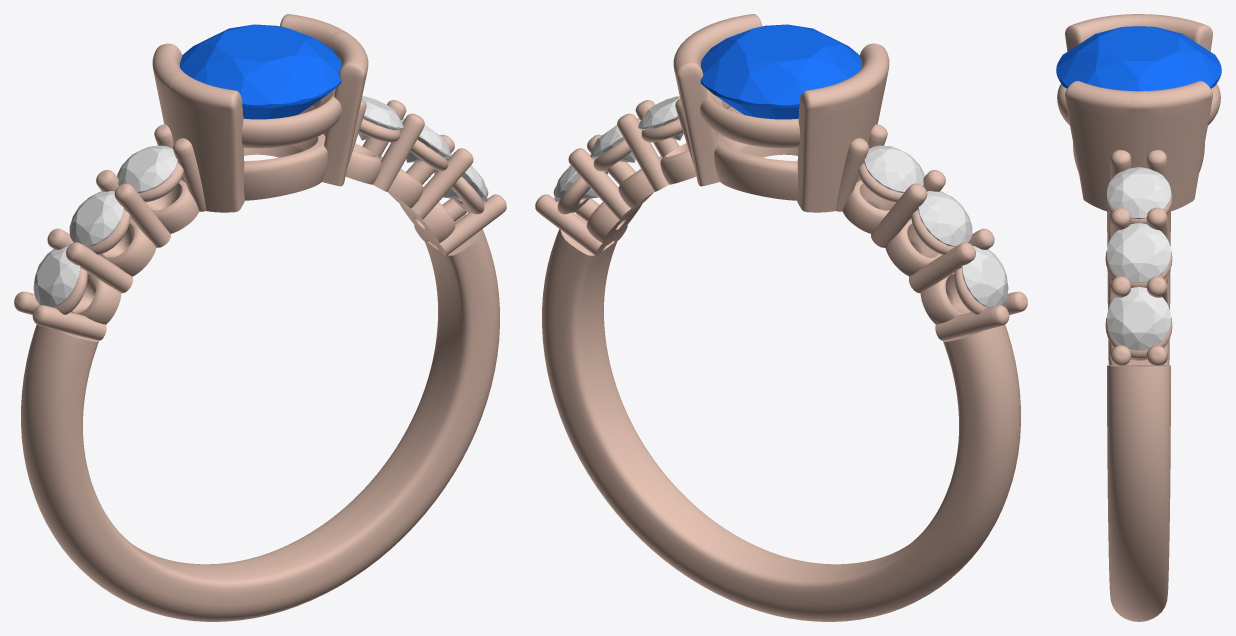
Rendered from bluesapphire-round-rosegold-halfmoonbezel-straightband-3stone.glb.
3 views of the same model, side by side, from view 1: azimuth 30°, elevation 25°; view 2: azimuth 150°, elevation 25°; view 3: azimuth 270°, elevation 25° (orthographic). The views are drawn at different scales.
Visible parts, largest first — view 1: metal, stone, side.001, side, side.002, side.003, side.004; view 2: metal, stone, side.001, side, side.002, side.003, side.004; view 3: metal, stone, side.005, side.004, side.003.
Part boxes in pixels (x1,y1,x2,y2): metal: (14, 14, 506, 621); stone: (180, 24, 341, 119); side.001: (69, 191, 123, 246); side: (117, 145, 177, 192); side.002: (33, 246, 80, 307); side.003: (358, 96, 403, 140); side.004: (401, 118, 451, 162); metal: (535, 14, 1027, 621); stone: (700, 24, 861, 119); side.001: (918, 191, 972, 246); side: (864, 145, 924, 192); side.002: (961, 246, 1008, 307); side.003: (638, 96, 683, 140); side.004: (590, 118, 640, 162); metal: (1057, 14, 1220, 621); stone: (1056, 26, 1221, 91); side.005: (1107, 287, 1170, 350); side.004: (1107, 223, 1170, 282); side.003: (1107, 167, 1170, 219).
Bounding box in the file's own units: 20.58 × 23.81 × 6.44.
